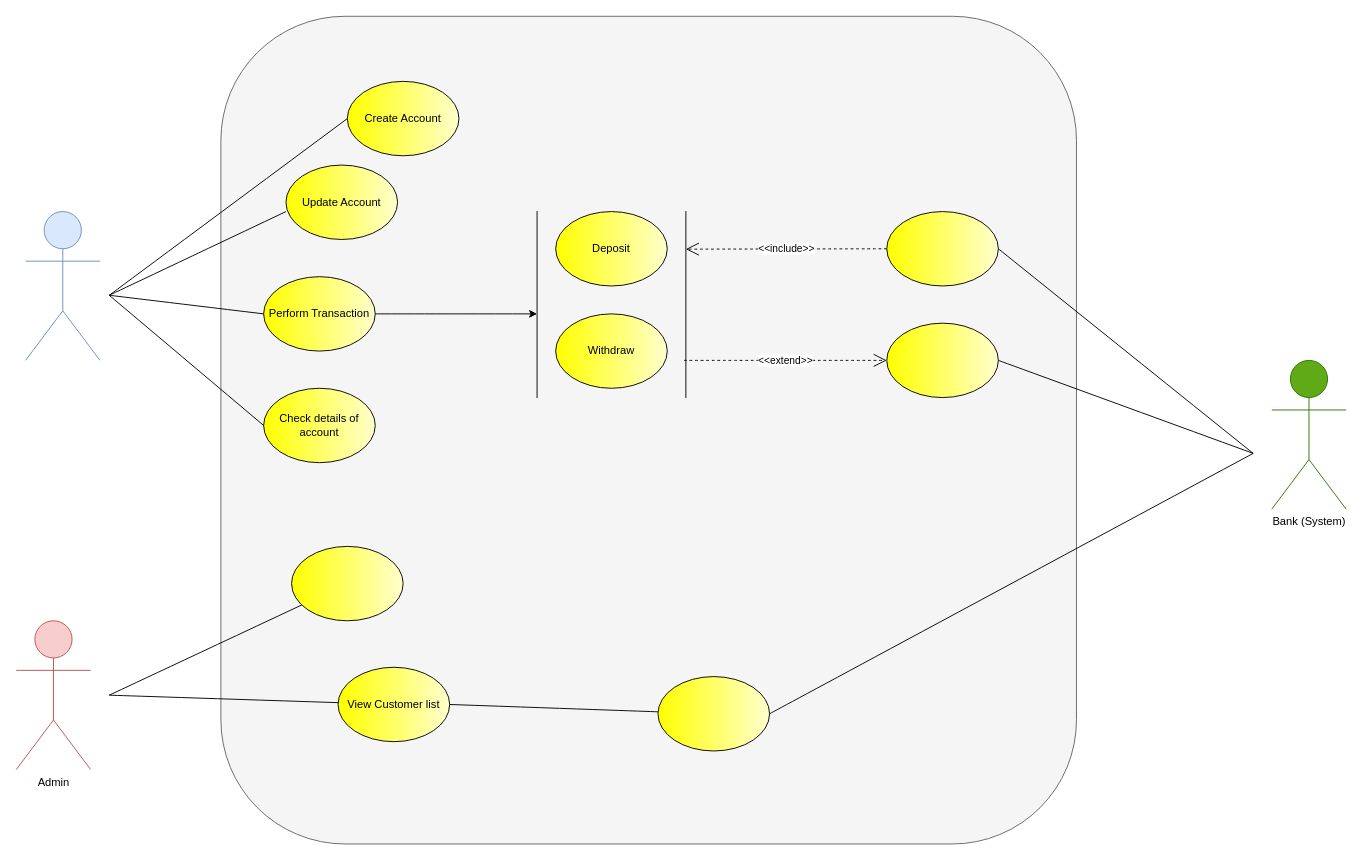
This 1362x860 diagram has some shape labels left out. The shapes that lost their labels are listed below. From the top down, each one's centre as x and y in pixels, then its label:
[942,248]: Update Balance
[62,285]: User/Customer
[942,360]: Generate Interest
[347,583]: Remove Account
[713,713]: Fetch all account detais
